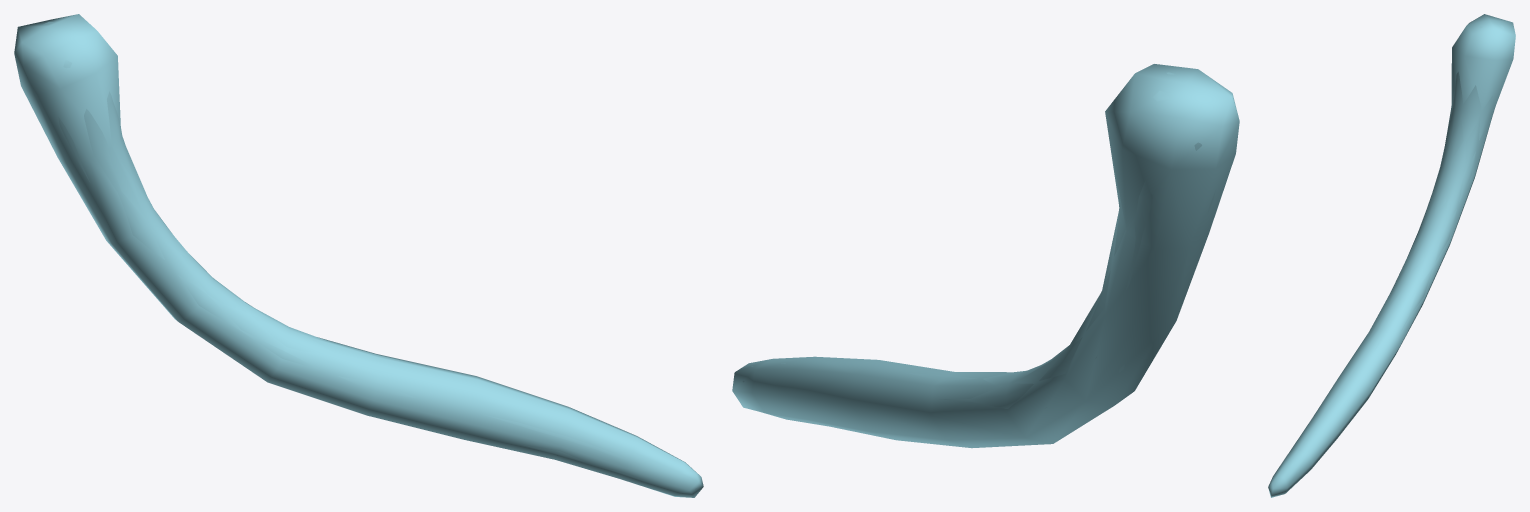
3 renders of one model, left to right at view 1: azimuth 30°, elevation 25°; view 2: azimuth 150°, elevation 25°; view 3: azimuth 270°, elevation 25°, orthographic. The views are drawn at different scales.
Parts seen in each view (by area): view 1: CC R6 low, CC R6; view 2: CC R6 low, CC R6; view 3: CC R6 low, CC R6.
Part boxes in pixels (bbox=[...]): CC R6 low: bbox=[14, 14, 703, 497]; CC R6: bbox=[41, 21, 697, 489]; CC R6 low: bbox=[732, 64, 1239, 448]; CC R6: bbox=[742, 72, 1215, 425]; CC R6 low: bbox=[1268, 14, 1515, 497]; CC R6: bbox=[1269, 25, 1504, 492].
Size of the model in its own units: 2.55 by 2.19 by 1.54.
